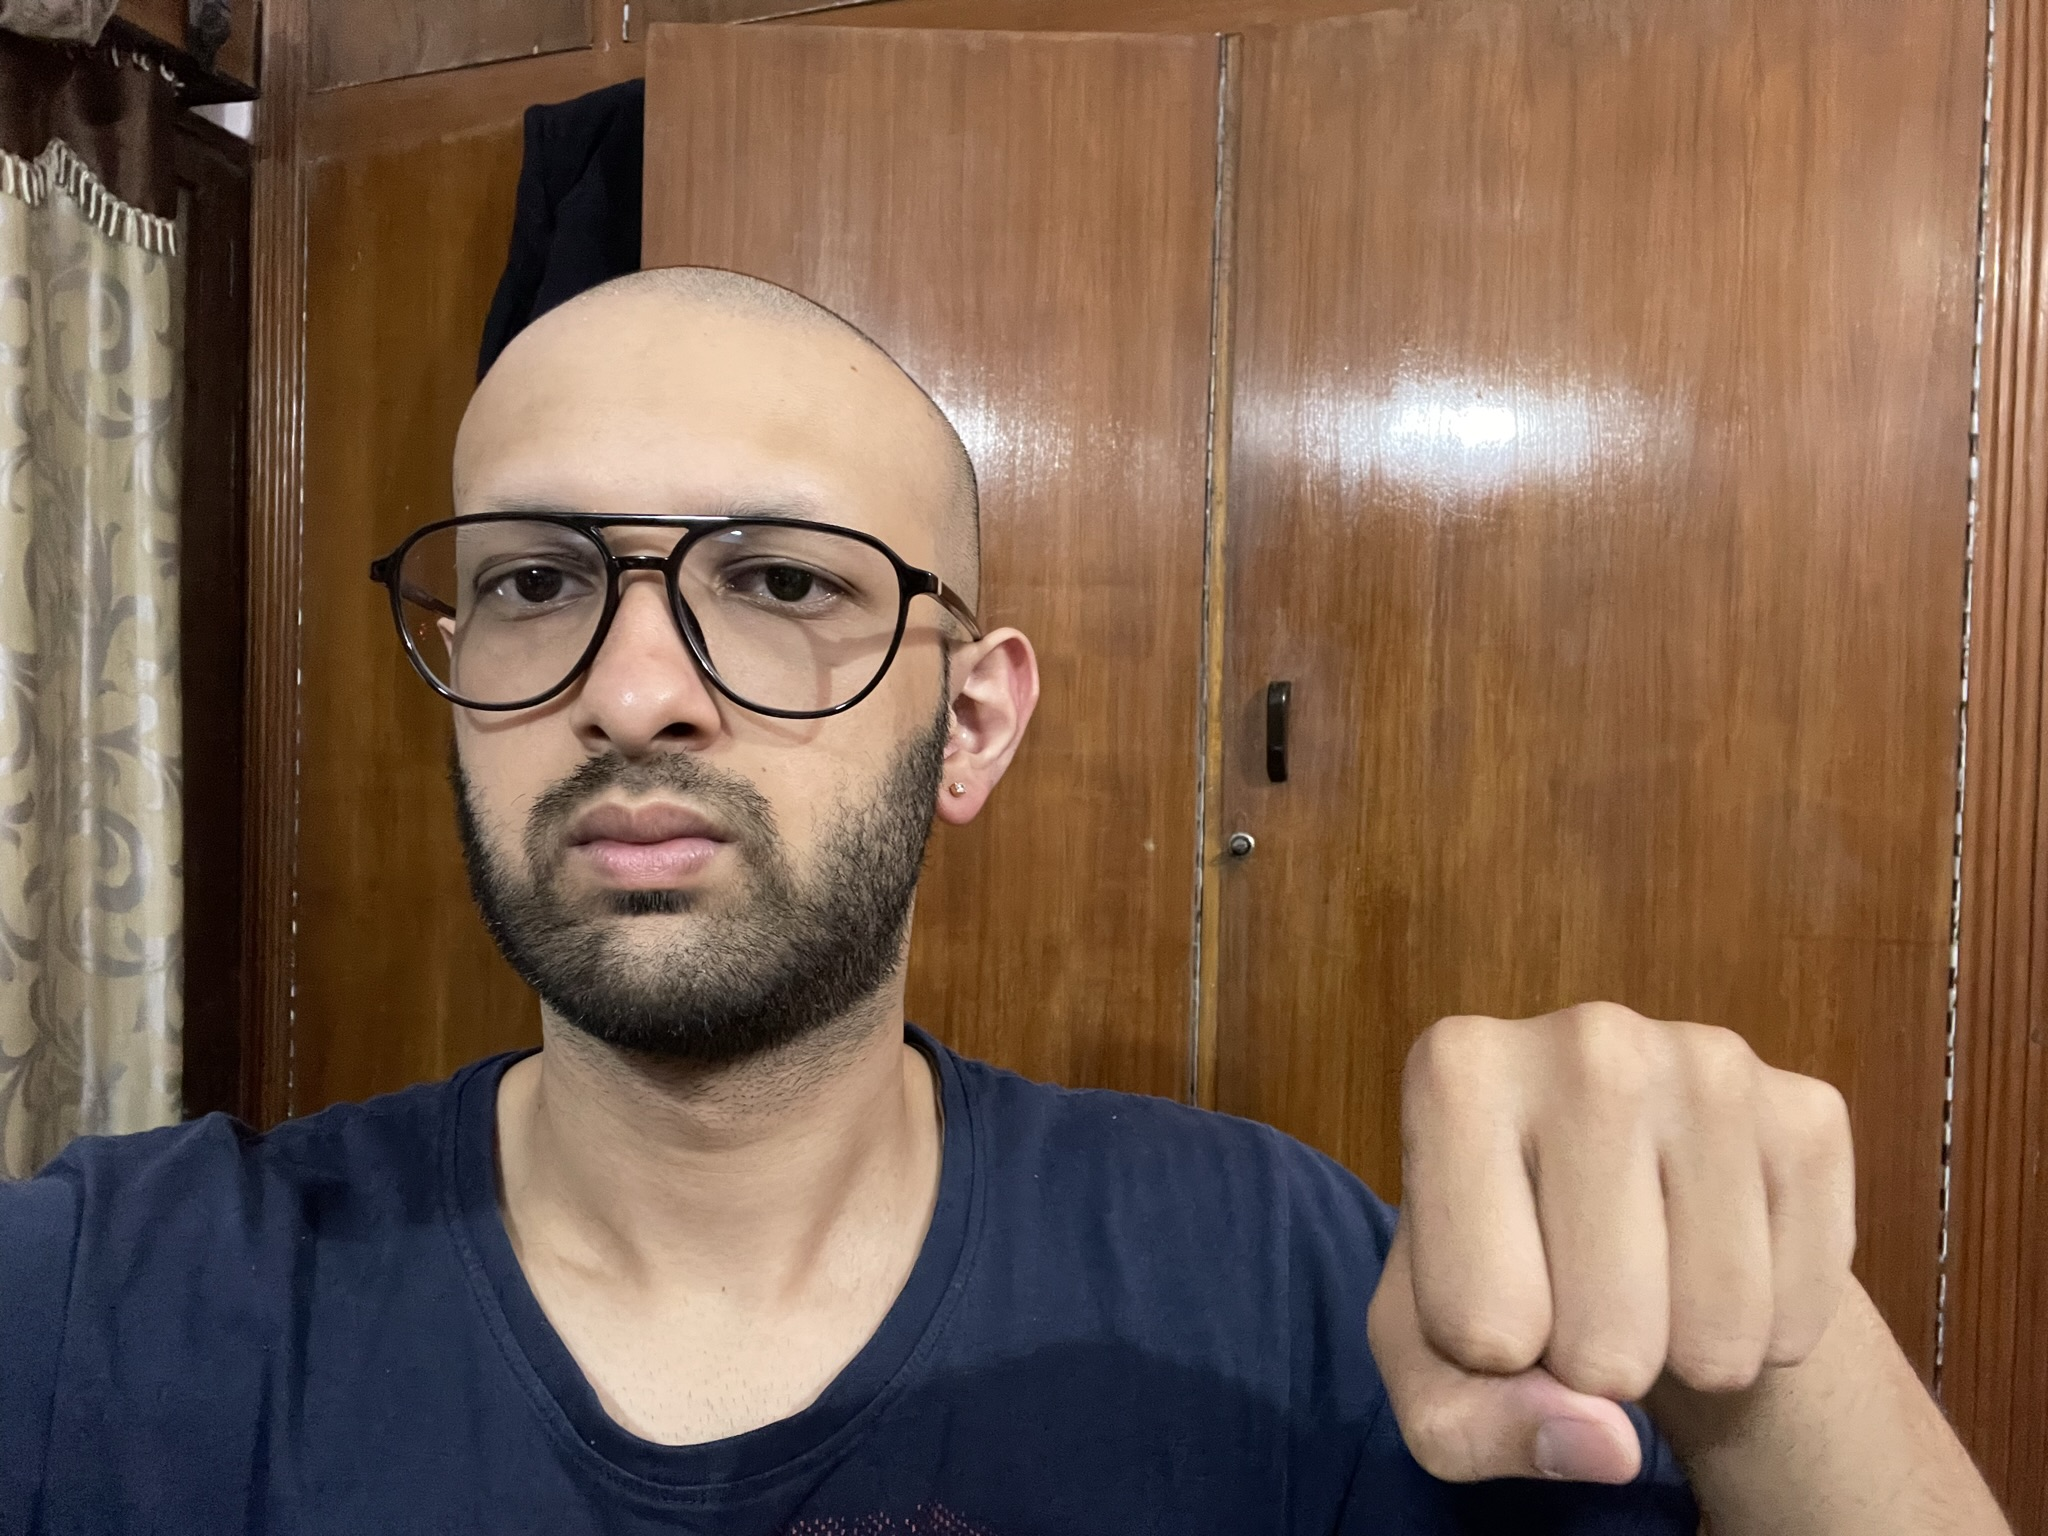Yes: (1351, 970, 1880, 1501)
